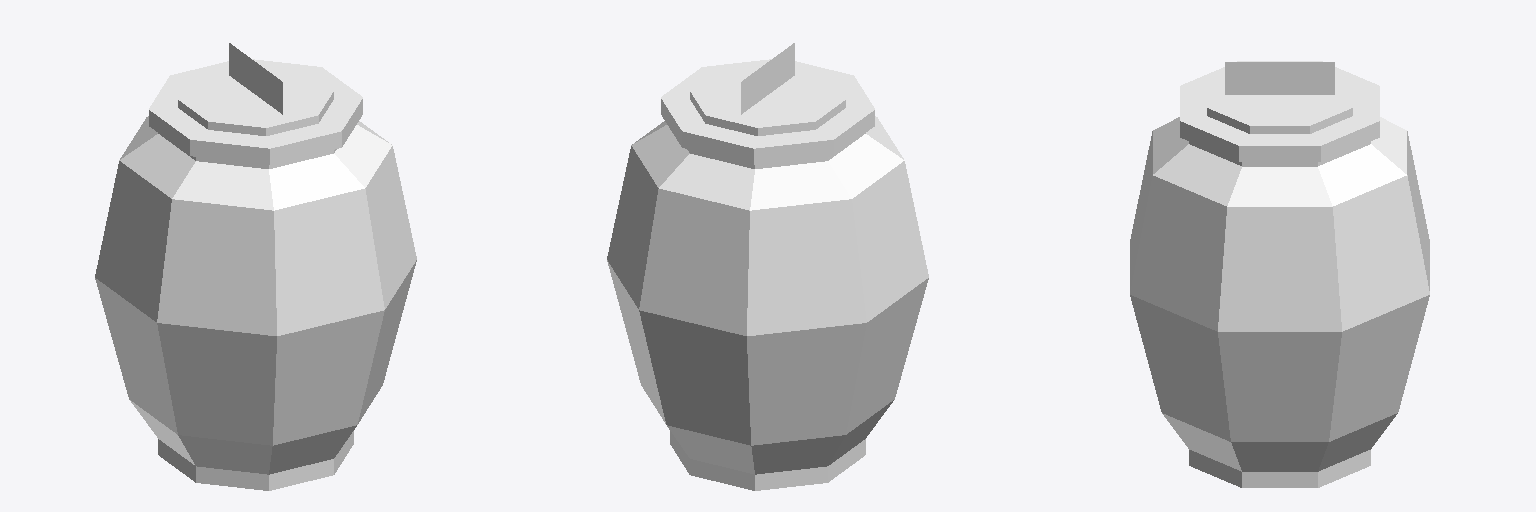
Rendered from dolia.obj.
3 views of the same model, side by side, from view 1: azimuth 30°, elevation 25°; view 2: azimuth 150°, elevation 25°; view 3: azimuth 270°, elevation 25° (orthographic).
Parts seen in each view (by area): view 1: dolia, handle; view 2: dolia, handle; view 3: dolia, handle.
Boxes of the visible parts, <box> form: dolia: <box>95,59,416,490</box>; handle: <box>229,43,282,114</box>; dolia: <box>607,59,928,490</box>; handle: <box>741,43,794,114</box>; dolia: <box>1130,61,1429,487</box>; handle: <box>1225,62,1334,94</box>.
Bounding box in the file's own units: 1.03 × 1.47 × 1.03.